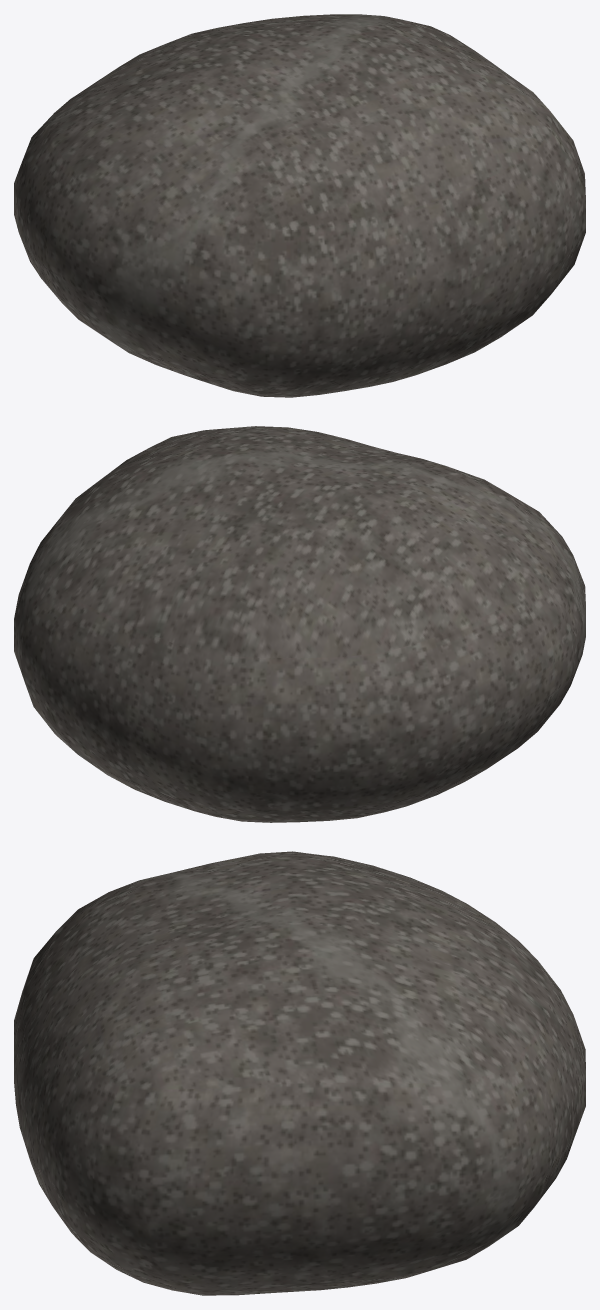
Rendered from plunge_boulder_03.glb.
3 views of the same model, one above another, from view 1: azimuth 30°, elevation 25°; view 2: azimuth 150°, elevation 25°; view 3: azimuth 270°, elevation 25° (orthographic). The views are drawn at different scales.
Parts seen in each view (by area): view 1: plunge_boulder_03; view 2: plunge_boulder_03; view 3: plunge_boulder_03.
Part boxes in pixels (left/top/right/bottom): plunge_boulder_03: left=14, top=14, right=585, bottom=397; plunge_boulder_03: left=14, top=426, right=585, bottom=822; plunge_boulder_03: left=14, top=851, right=585, bottom=1295.
Bounding box in the file's own units: 0.074 × 0.0459 × 0.0682.
Materials: 1 (1 with a texture image).
